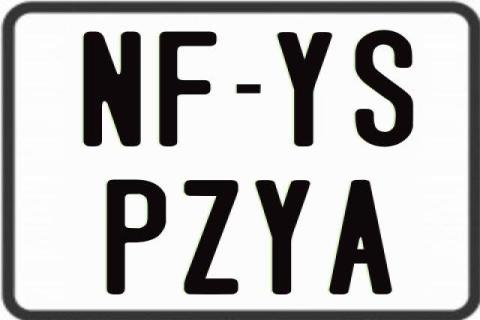A: (328, 178, 392, 294)
F: (157, 29, 218, 145)
N: (82, 29, 140, 148)
P: (106, 177, 165, 295)
S: (352, 29, 413, 149)
Y: (255, 180, 312, 299), (276, 29, 332, 145)
Z: (181, 178, 237, 294)
